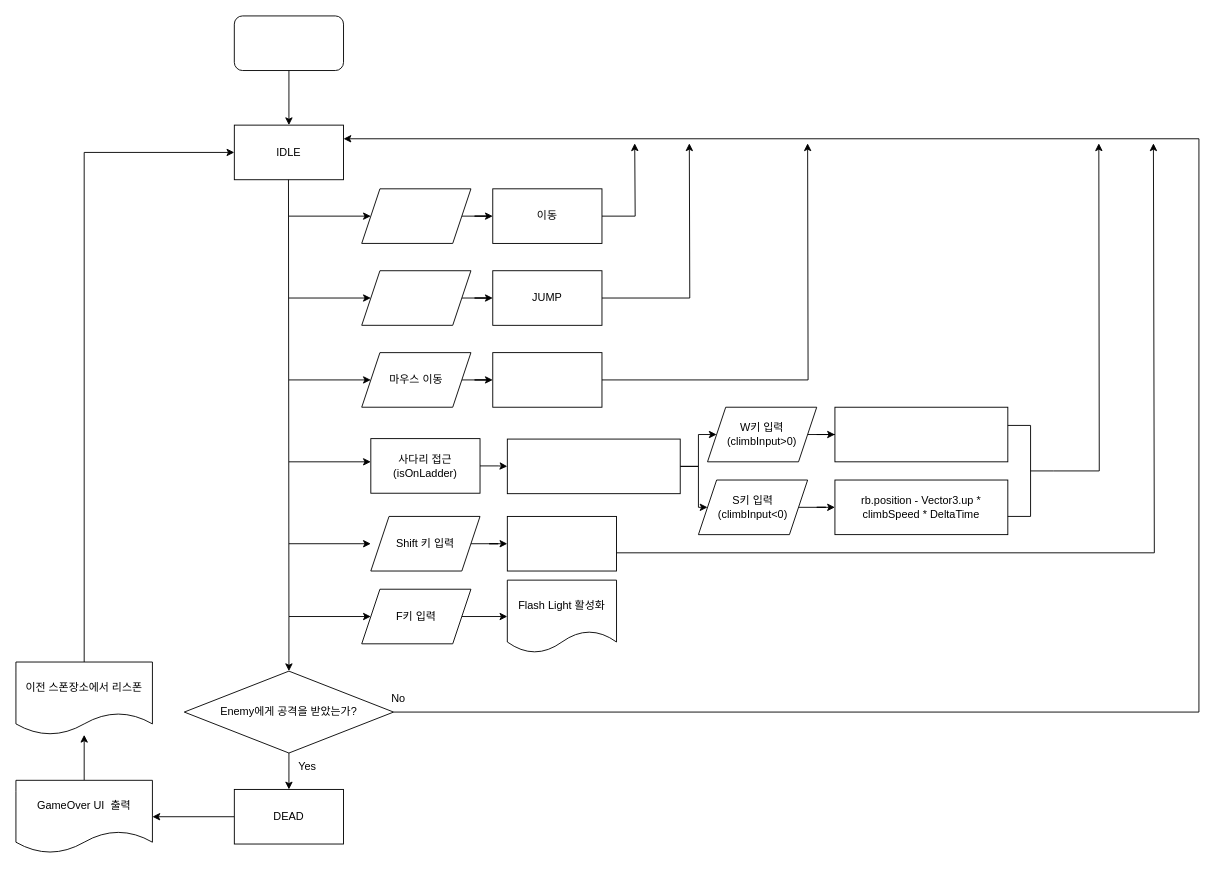
Image size: 1222x869. Some labels were removed from this diagram. Each missing label, with the box of its shape:
DASH: (506, 516, 617, 571)
float climbInput = Input.GetAxisRaw("Vertiacal"): (506, 438, 680, 494)
rb.position + Vector3.up * climbSpeed * DeltaTime: (834, 406, 1008, 462)
Space 키 입력: (361, 270, 471, 325)
W,A,S,D 입력: (361, 188, 471, 243)
시작: (233, 15, 344, 71)
회전: (492, 352, 602, 407)
